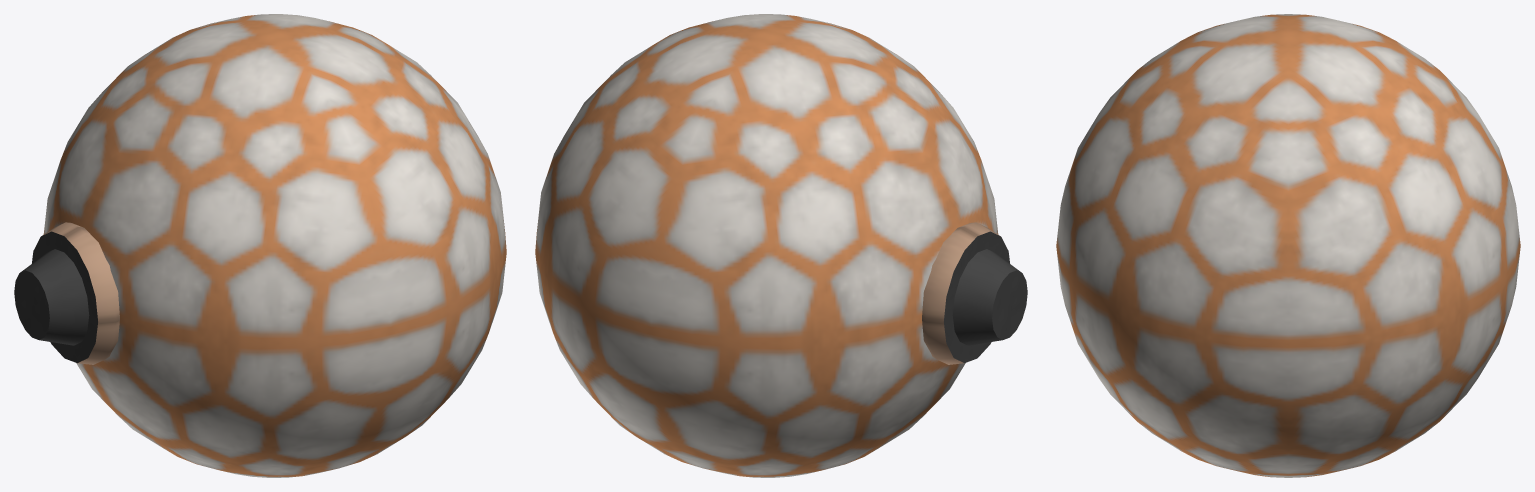
The model's file is Apollo_float_Round.FBX.
3 renders of one model, left to right at view 1: azimuth 30°, elevation 25°; view 2: azimuth 150°, elevation 25°; view 3: azimuth 270°, elevation 25°, orthographic.
Parts seen in each view (by area): view 1: Float_Round, Base; view 2: Float_Round, Base; view 3: Float_Round.
Part boxes in pixels (x1=…): Float_Round: x1=43, y1=14, x2=506, y2=477; Base: x1=14, y1=222, x2=119, y2=364; Float_Round: x1=535, y1=14, x2=998, y2=477; Base: x1=922, y1=222, x2=1027, y2=364; Float_Round: x1=1056, y1=14, x2=1520, y2=477.
Bounding box in the file's own units: 72.84 × 66 × 66.
1 material, 1 textured.
